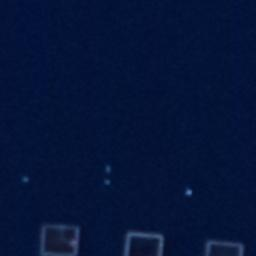square_cover: (38, 218, 83, 256), (119, 228, 168, 256), (201, 236, 247, 256)
